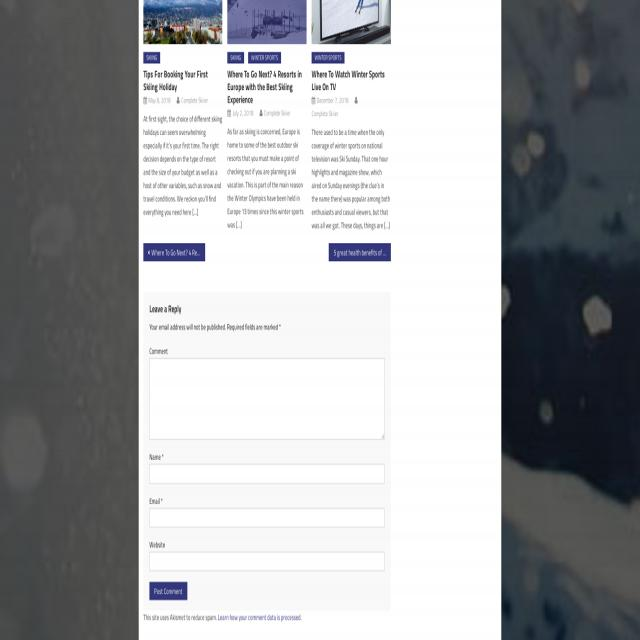button: (312, 0, 391, 44), (144, 0, 222, 44), (228, 0, 306, 44), (143, 244, 205, 262), (329, 244, 391, 262), (149, 582, 187, 600), (248, 52, 282, 64), (312, 52, 344, 64), (228, 52, 245, 64), (144, 52, 160, 64)
field: (150, 358, 385, 441), (149, 464, 385, 484), (149, 508, 385, 528), (149, 552, 385, 572)
